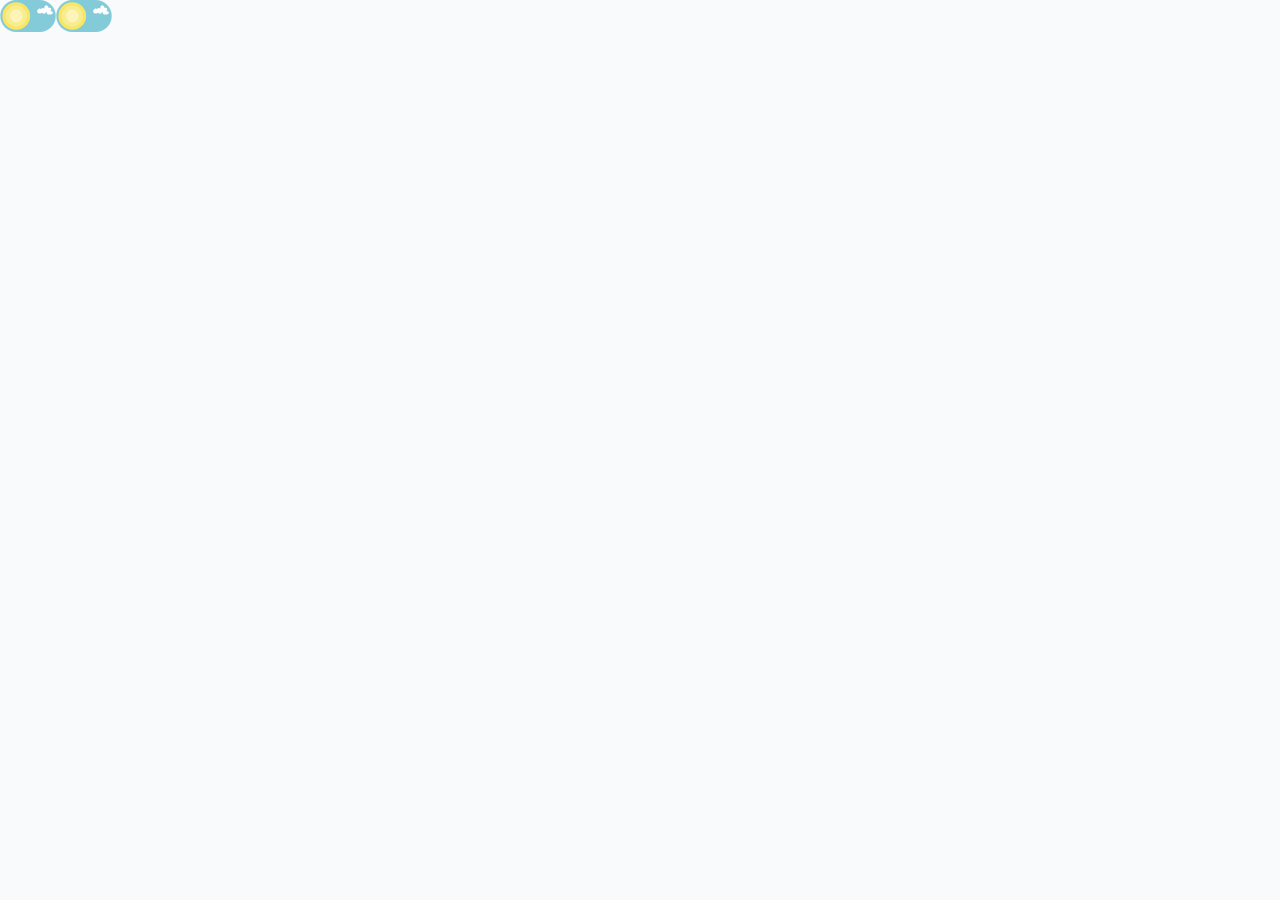
Test: ThemeToggle › switches the html dark class and remembers the choice
Click the switch named "Dark mode". click: [28, 16]
box: [0,0,56,32]
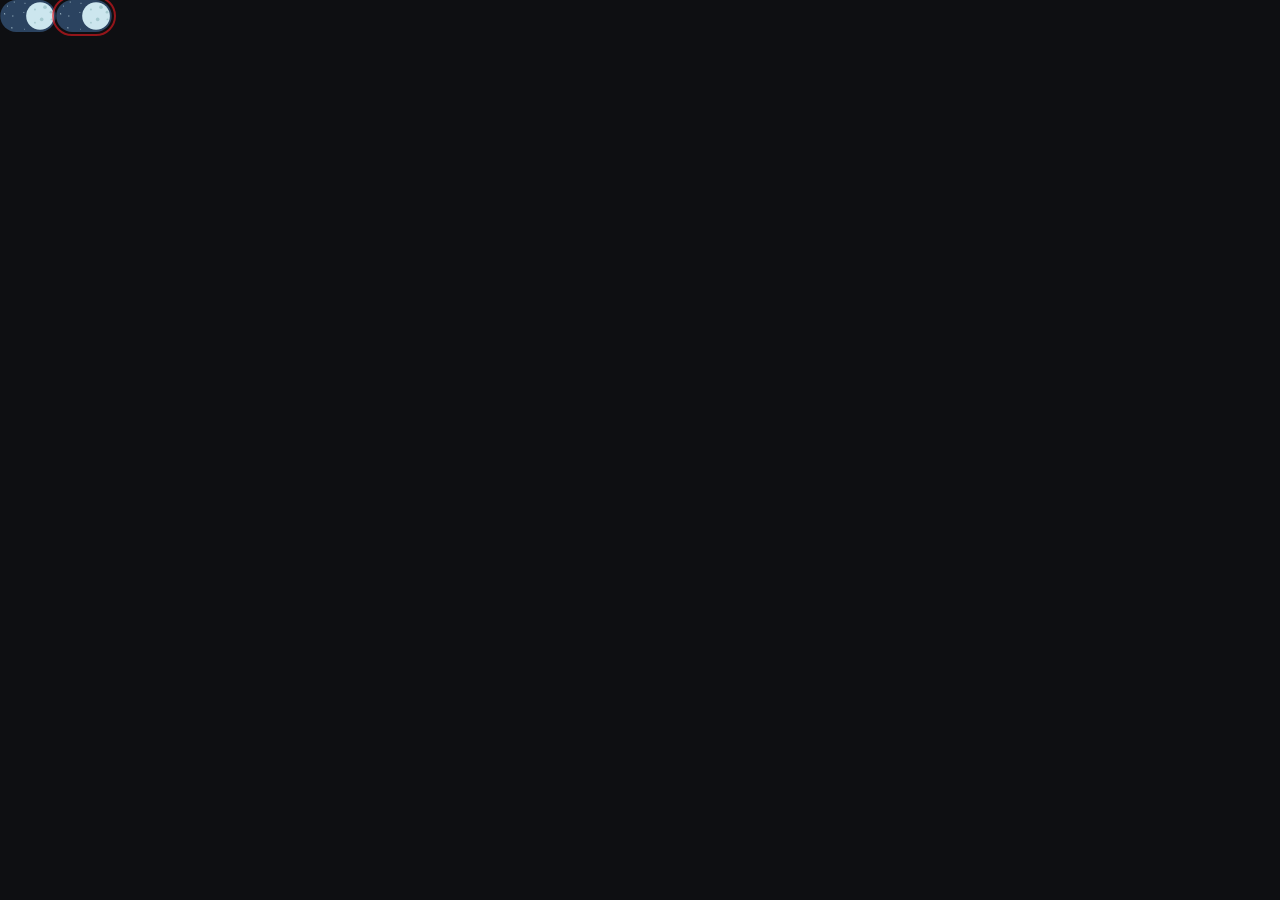
Result: the switch named "Dark mode" is checked at [56,0,112,32]
Type keys " "
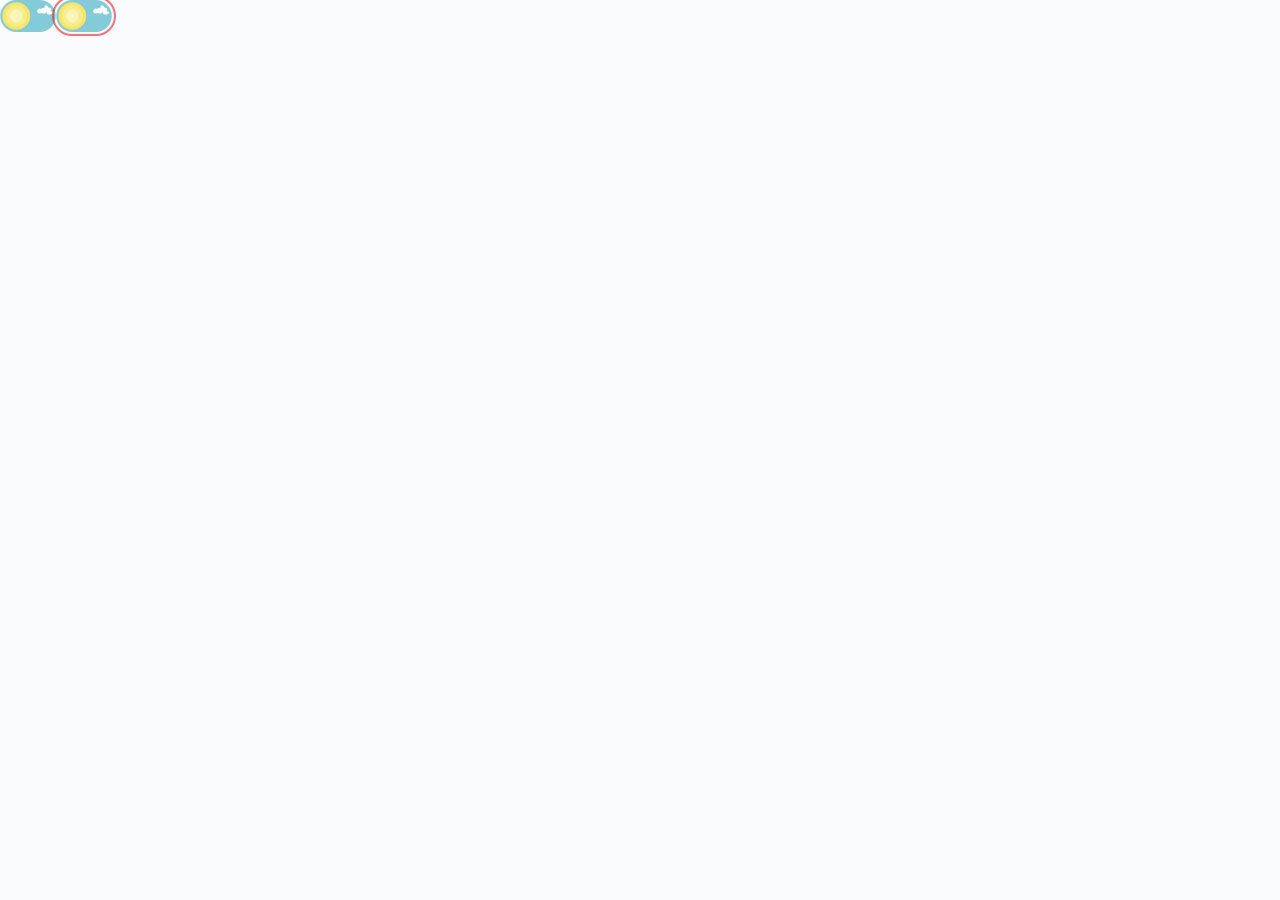
Result: the switch named "Dark mode" is not checked at [0,0,56,32]
